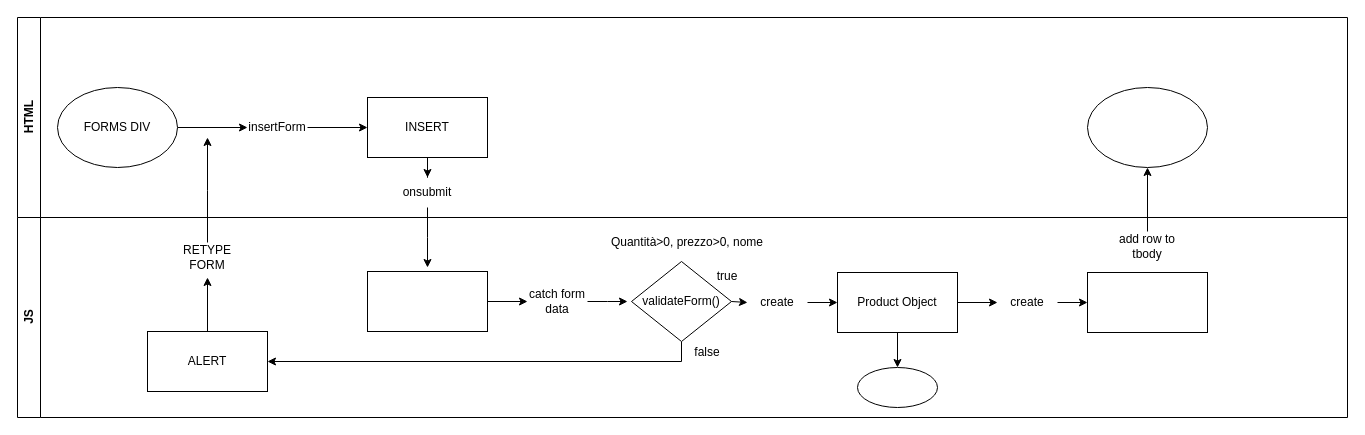
Image size: 1365x435. Some labels were removed from this diagram. The shapes that lost their labels are listed below. From the top down, each one's box as (x1, y1, x2, y2) in pixels, then its label:
(1086, 86, 1208, 168): VISIBILE ROW
(366, 270, 488, 332): insertProduct()
(1086, 272, 1208, 332): ROW
(856, 366, 938, 408): Array
